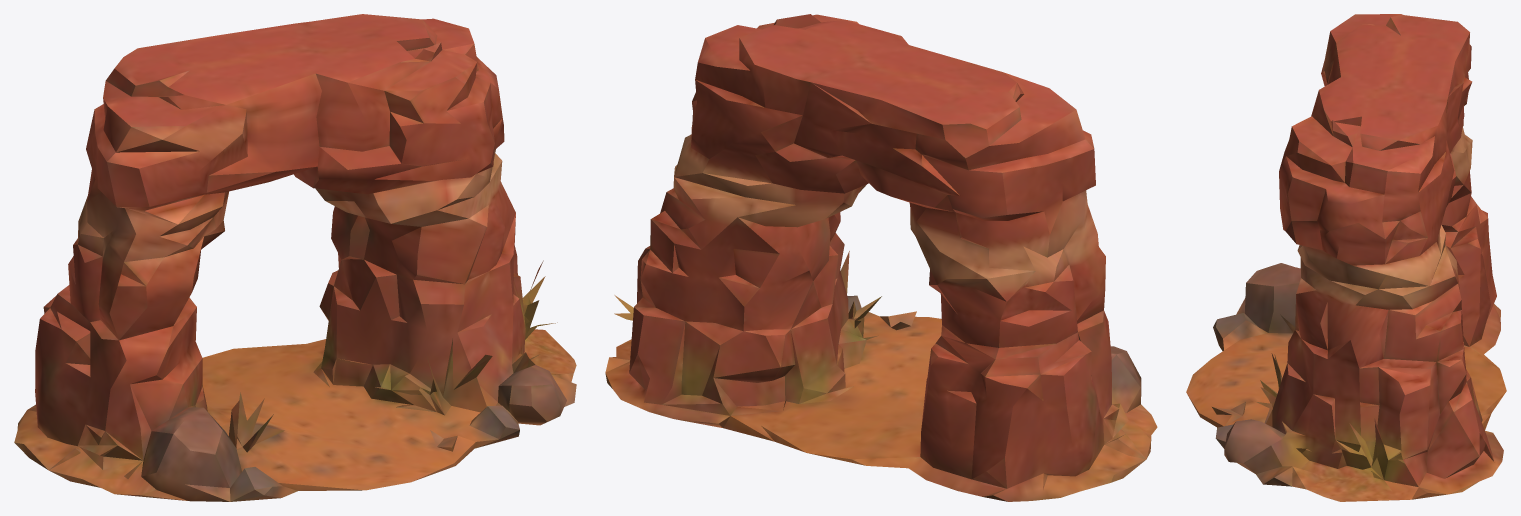
The model's file is shrub_01.glb.
The picture shows the model from 3 angles, left to right: view 1: azimuth 30°, elevation 25°; view 2: azimuth 150°, elevation 25°; view 3: azimuth 270°, elevation 25°; orthographic projection. The views are drawn at different scales.
Parts seen in each view (by area): view 1: shrub_01; view 2: shrub_01; view 3: shrub_01.
Boxes of the visible parts, left/top/right/bottom form: shrub_01: left=14, top=14, right=576, bottom=501; shrub_01: left=605, top=14, right=1157, bottom=501; shrub_01: left=1186, top=14, right=1506, bottom=501.
Size of the model in its own units: 22.52 by 15 by 13.51.
1 material, 1 textured.
